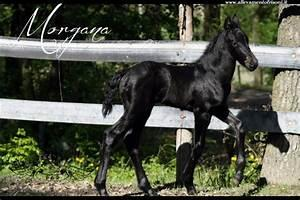horse: (93, 13, 258, 196)
